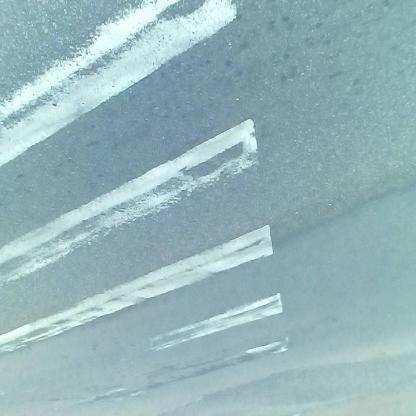crosswalk: (2, 30, 299, 374)
